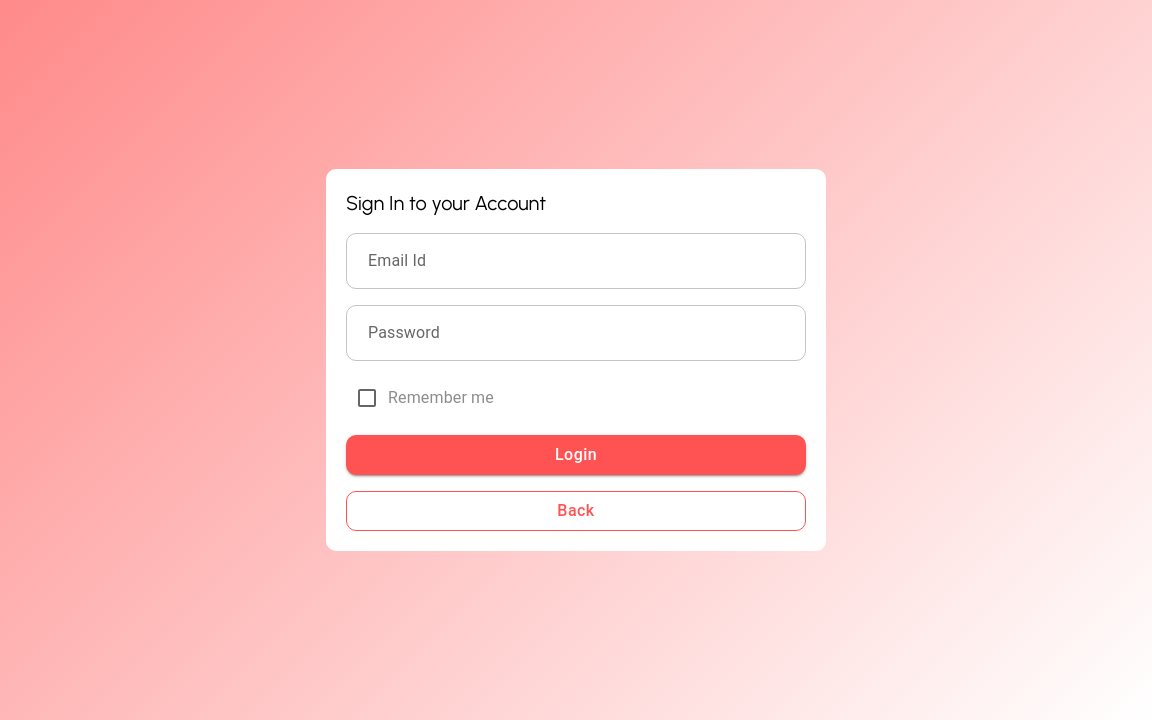
Test: LoginPage - Simple Tests with OTP › shows email format error when email is invalid
The image size is (1152, 720).
Type "invalid-email" into the field labelled "Email Id" at (576, 261), box x1=346 y1=233 x2=806 y2=289
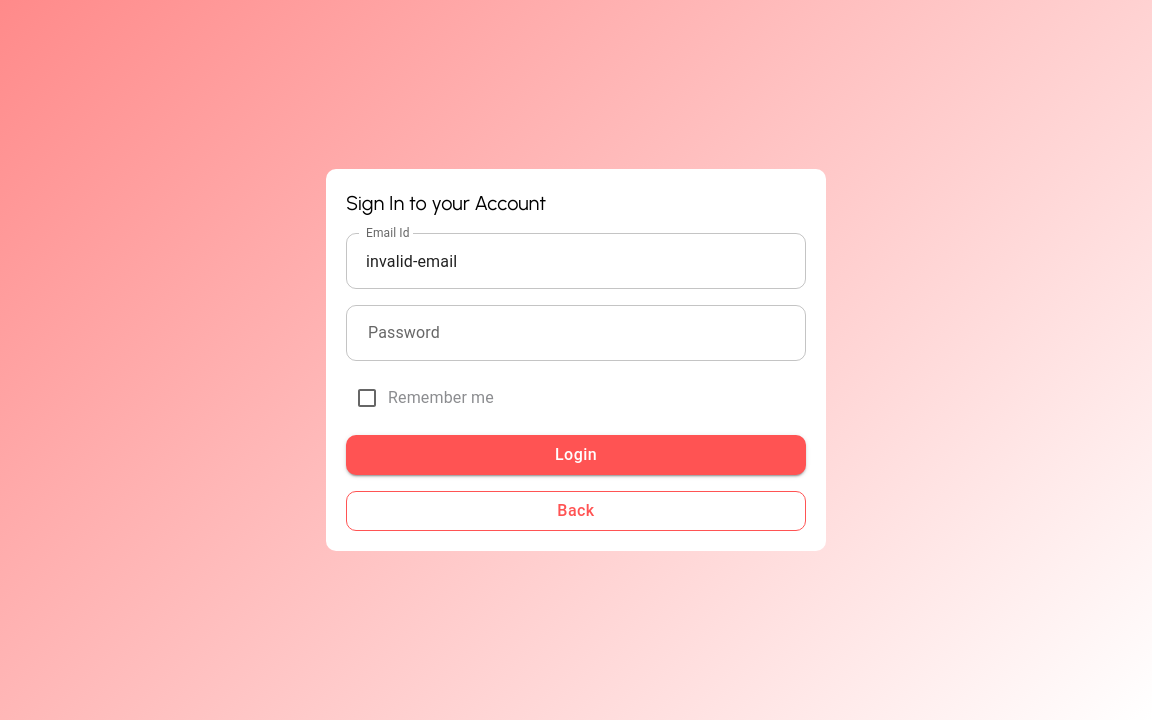
Click the button "Login" at (576, 455), box x1=346 y1=435 x2=806 y2=475
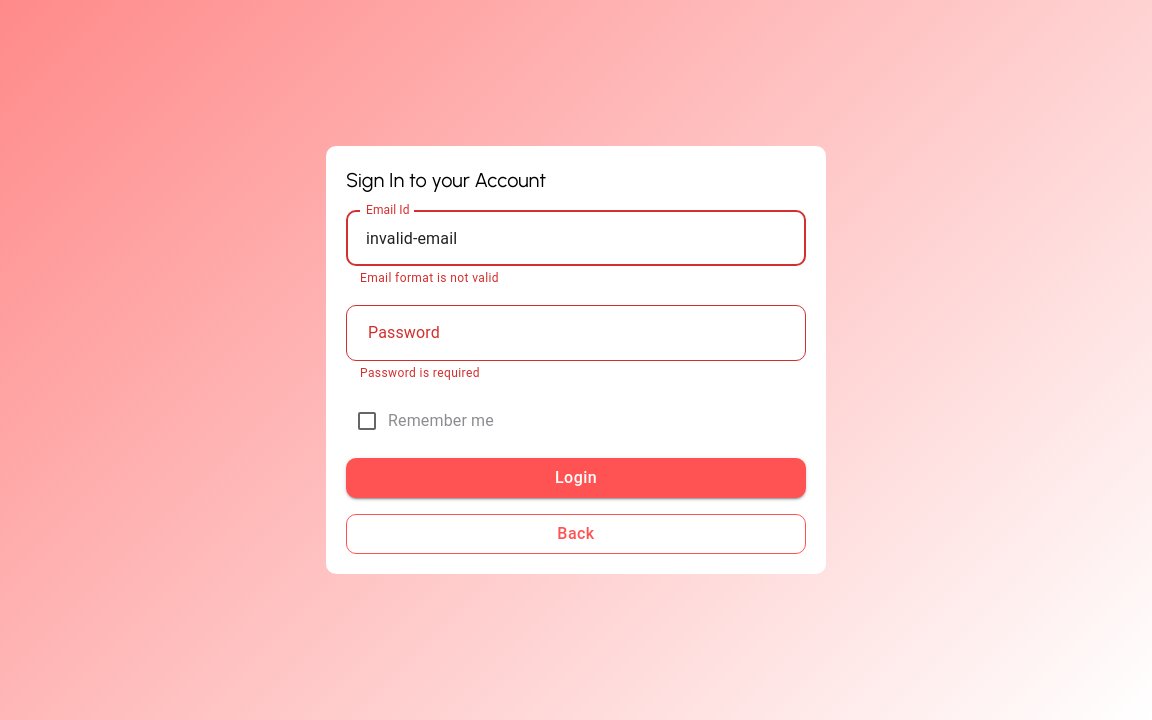
Check: the text "Email format is not valid" is shown, box x1=360 y1=271 x2=499 y2=285
